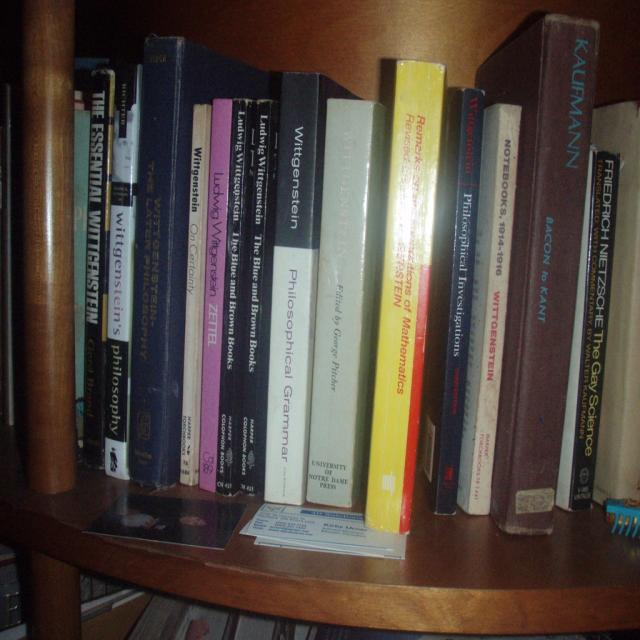Book: (76, 8, 640, 540), (365, 61, 445, 533), (82, 570, 404, 640)
